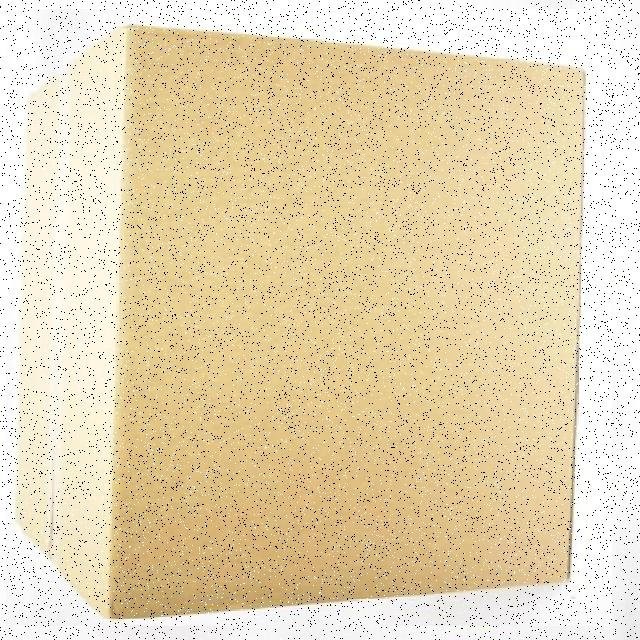normal: (6, 9, 612, 626)
